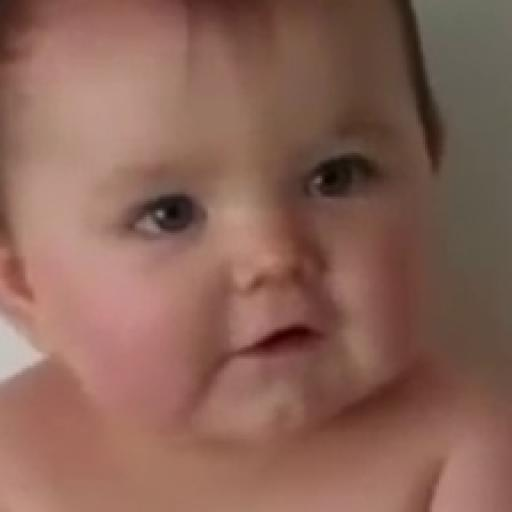Autism: (57, 26, 497, 507)
